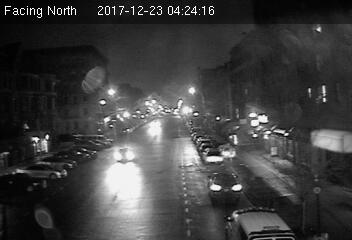car: (206, 171, 242, 201), (114, 146, 136, 165), (201, 147, 224, 165)
police: (223, 206, 301, 240)
